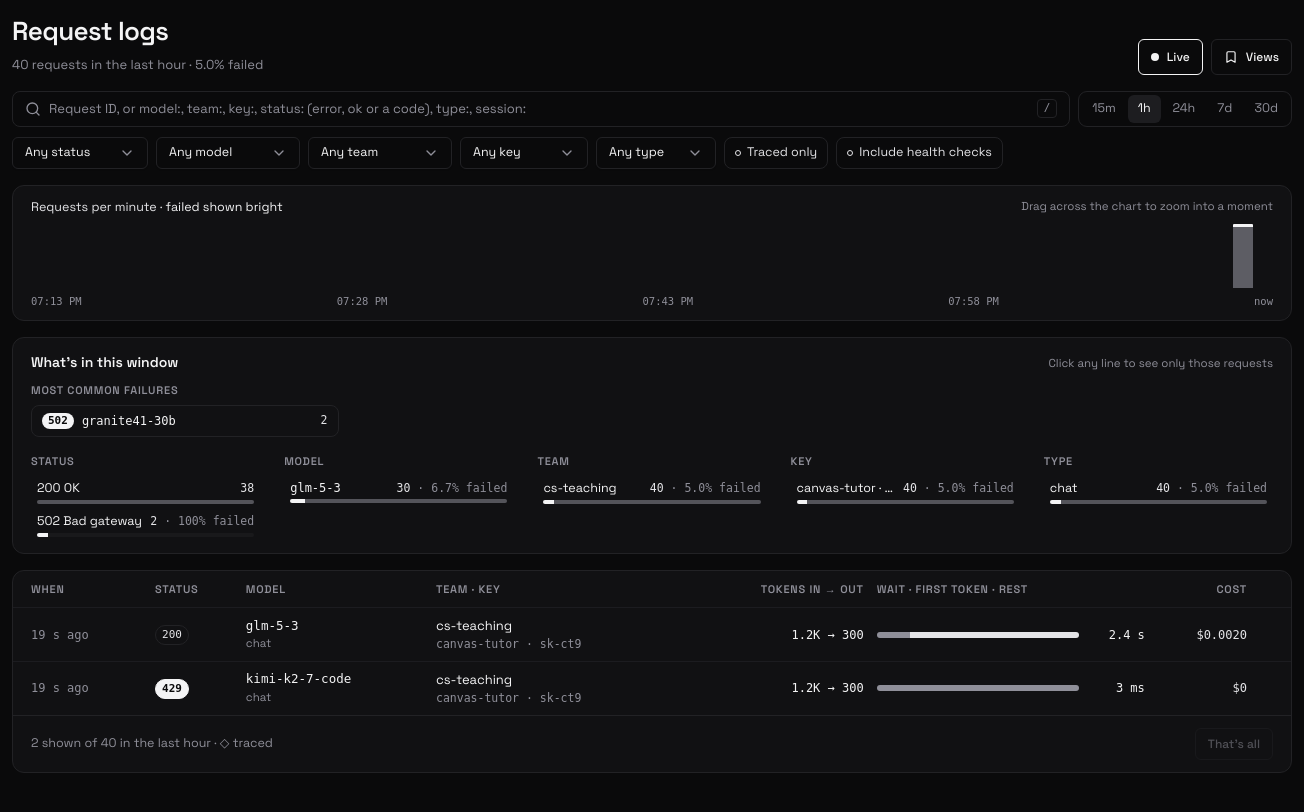
Test case: the request log › breaks the window down, and narrows the list to what is clicked
expect the element named "What" shows "502 Bad gateway": met, box [31,508,260,541]
expect the element named "What" shows "canvas-tutor · sk-ct9": met, box [791,475,1020,508]
Click the button "502 granite41-30b 2".
click(58, 421)  # box [31,405,338,437]
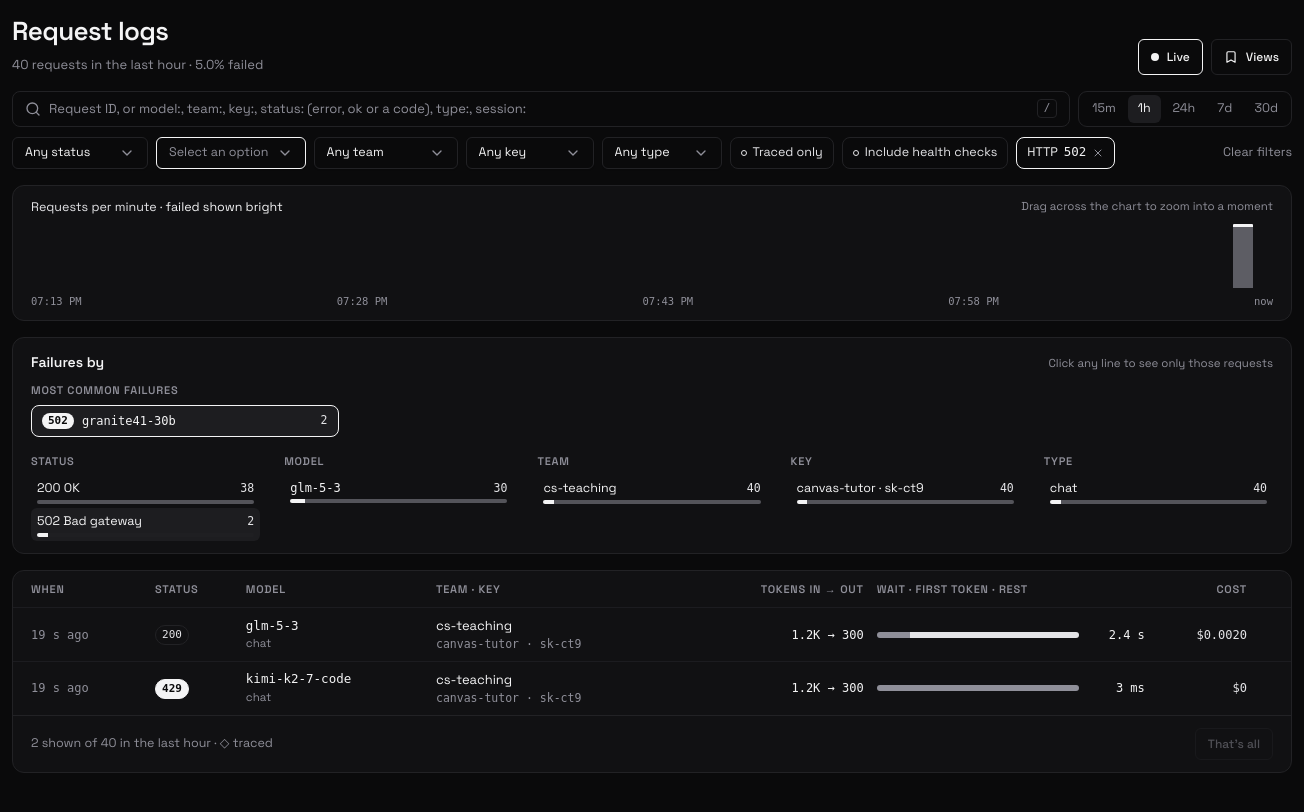
expect the element named "What" is shown: met, box [12,337,1292,554]
expect the text "HTTP 502" is shown: met, box [1016,136,1115,168]
